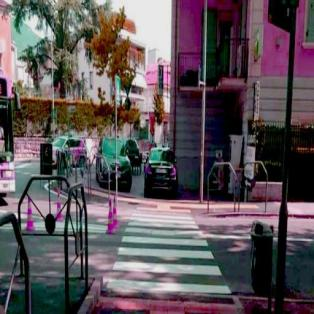Paso de Cebra: (112, 246, 227, 278)
